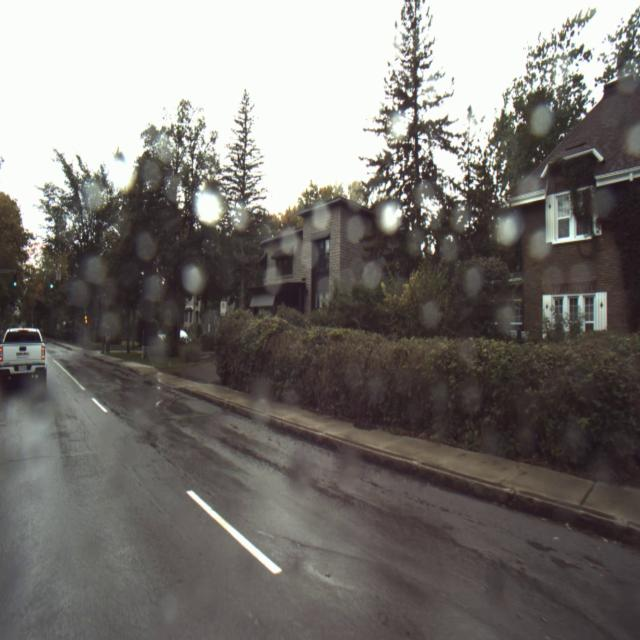car: (2, 328, 48, 385)
trafficLight-Green: (48, 281, 55, 291), (12, 280, 17, 287)
